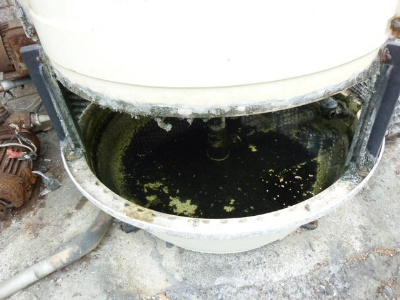water_tower: (60, 89, 387, 254)
